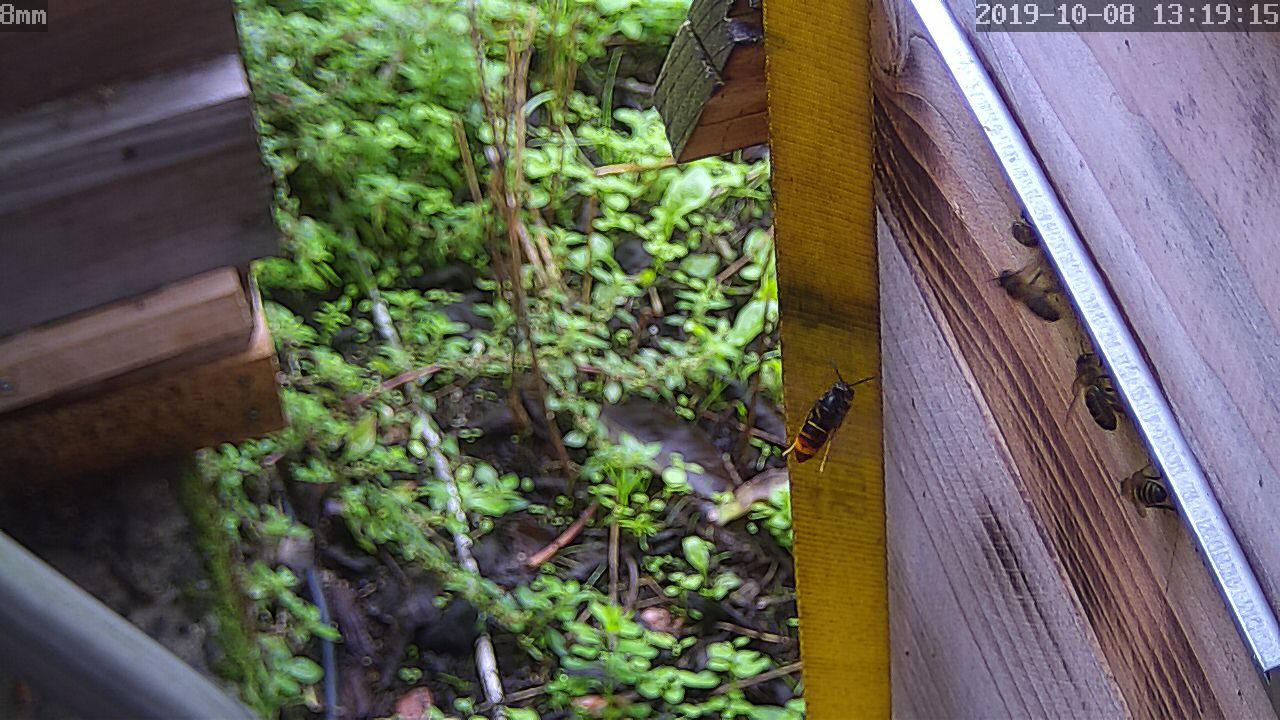bee: (985, 251, 1072, 326), (1068, 340, 1130, 440)
hornet: (802, 361, 849, 460)
